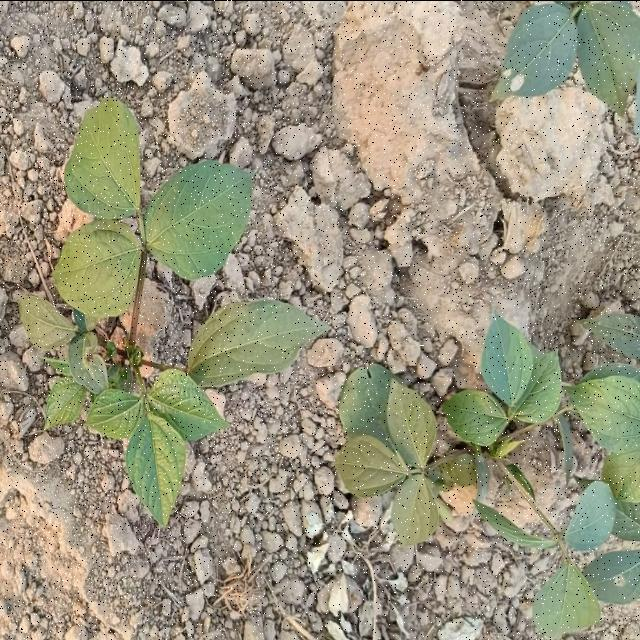plant: (20, 98, 327, 524), (334, 313, 640, 637)
